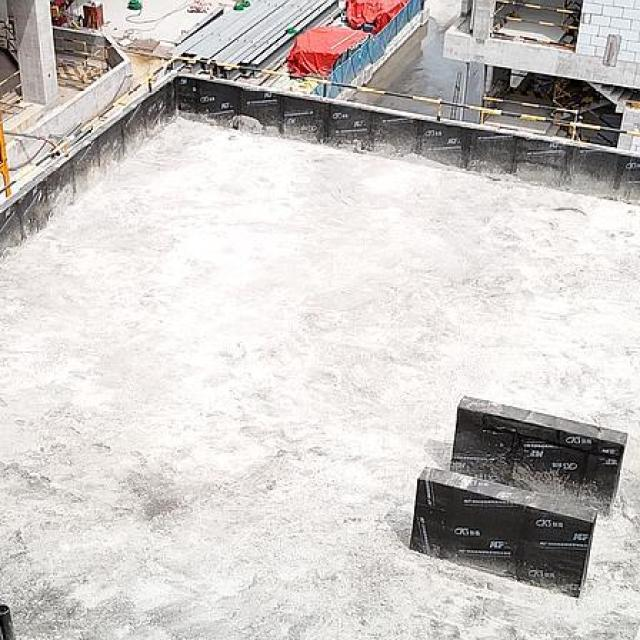edge_guardrail: (0, 54, 640, 196), (493, 0, 580, 50), (482, 96, 581, 121), (0, 69, 24, 112)
